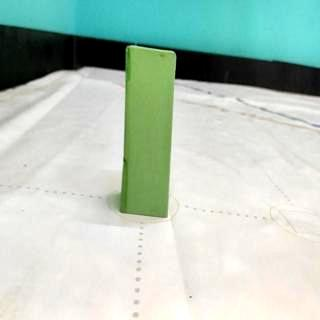greenbox: (119, 42, 179, 220)
